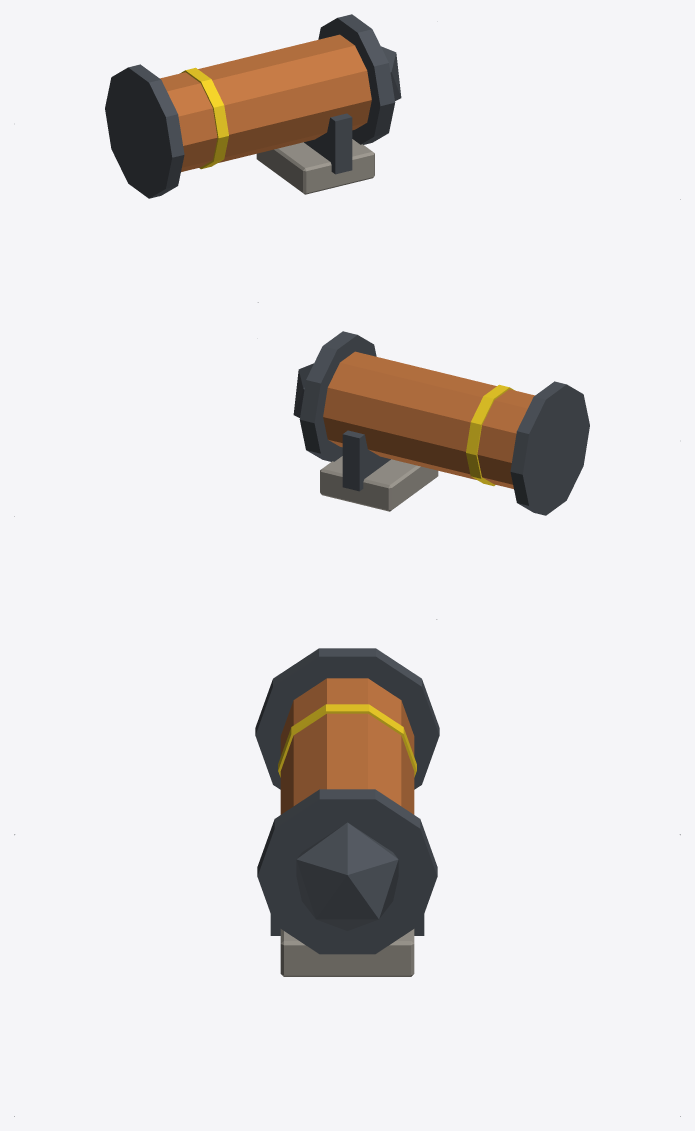
Rendered from tuyau_bout_t1.glb.
3 renders of one model, top to bottom at view 1: azimuth 30°, elevation 25°; view 2: azimuth 150°, elevation 25°; view 3: azimuth 270°, elevation 25°, orthographic. The views are drawn at different scales.
Parts seen in each view (by area): view 1: pieces_cuivre.020, pieces_acier_sombre.050, pieces_beton.030, pieces_rive_t1.016; view 2: pieces_cuivre.020, pieces_acier_sombre.050, pieces_beton.030, pieces_rive_t1.016; view 3: pieces_acier_sombre.050, pieces_cuivre.020, pieces_beton.030, pieces_rive_t1.016.
Boxes of the visible parts, x1,y1,x2,y2 form: pieces_cuivre.020: (160,34,371,171); pieces_acier_sombre.050: (105,14,401,198); pieces_beton.030: (256,139,374,194); pieces_rive_t1.016: (180,67,228,169); pieces_cuivre.020: (323,351,534,488); pieces_acier_sombre.050: (293,331,589,515); pieces_beton.030: (320,456,438,511); pieces_rive_t1.016: (466,384,514,486); pieces_acier_sombre.050: (255,648,439,954); pieces_cuivre.020: (280,678,414,814); pieces_beton.030: (280,929,414,976); pieces_rive_t1.016: (278,704,416,777).
Bounding box in the file's own units: 1 × 0.3112 × 1.
